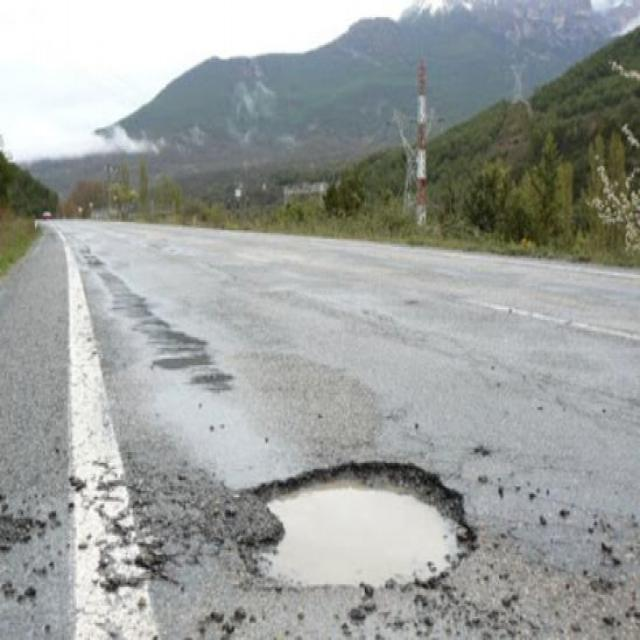Pothole: (232, 453, 481, 604)
